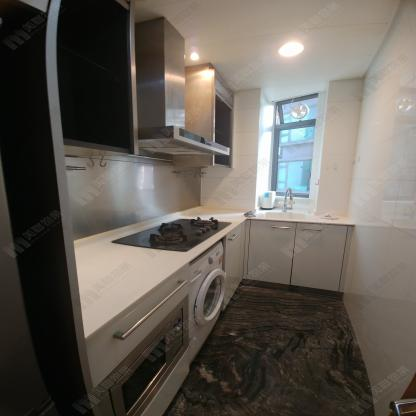Cupboard: (245, 223, 355, 295)
Exhaust Fan: (289, 101, 311, 121)
Exhaust Hood: (134, 16, 229, 155), (138, 126, 230, 155)
Faucet: (279, 185, 297, 213)
Microwave: (94, 308, 184, 416)
Sink: (256, 211, 306, 221)
Stove: (74, 211, 247, 261), (108, 216, 234, 253)
Washing Machine: (189, 239, 223, 368)
